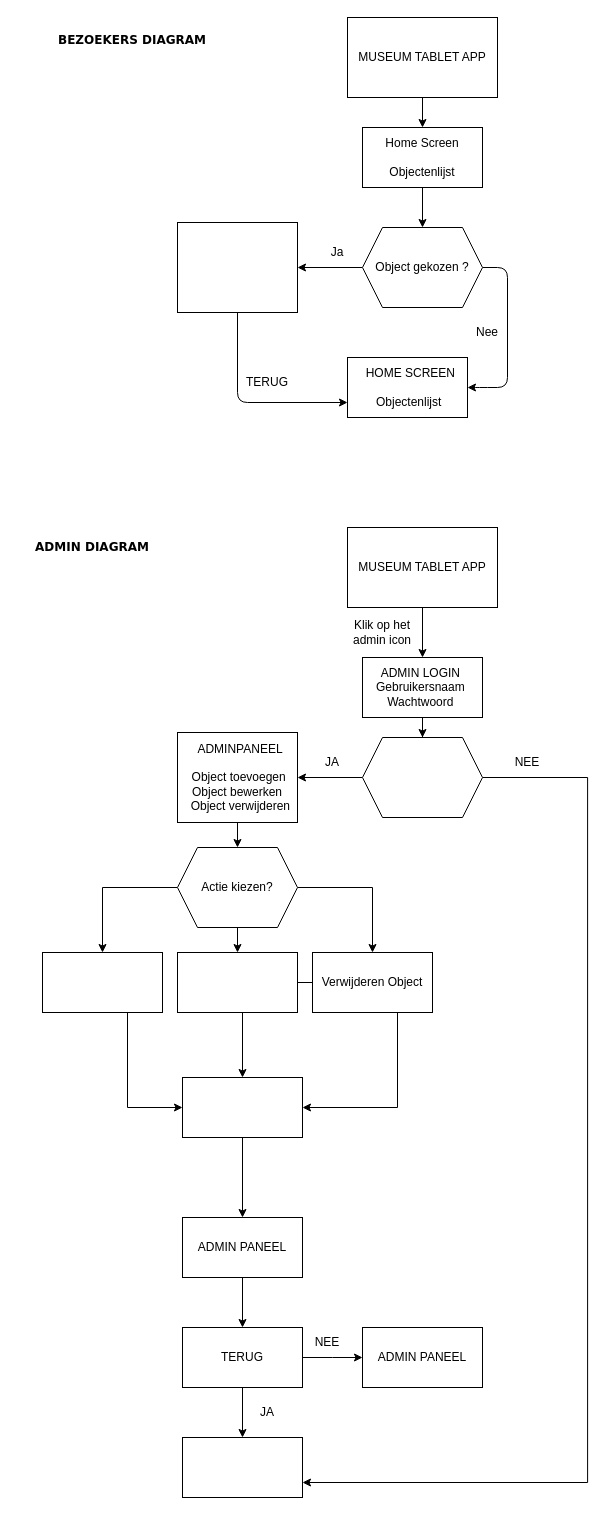
Some shapes in this 613 by 1515 pixel diagram are drawn without their labels. The centre of each missing label's shape, as x and y in pixels:
"Bewerken Object" goes at pixel 237 982.
"HOME SCREEN" goes at pixel 242 1467.
"INLOGGEN GELUKT?" goes at pixel 422 777.
"OBJECT AFBEELDING TITEL INFORMATIE" goes at pixel 237 267.
"OPSLAAN" goes at pixel 242 1107.
"Toevoegen Object" goes at pixel 102 982.
